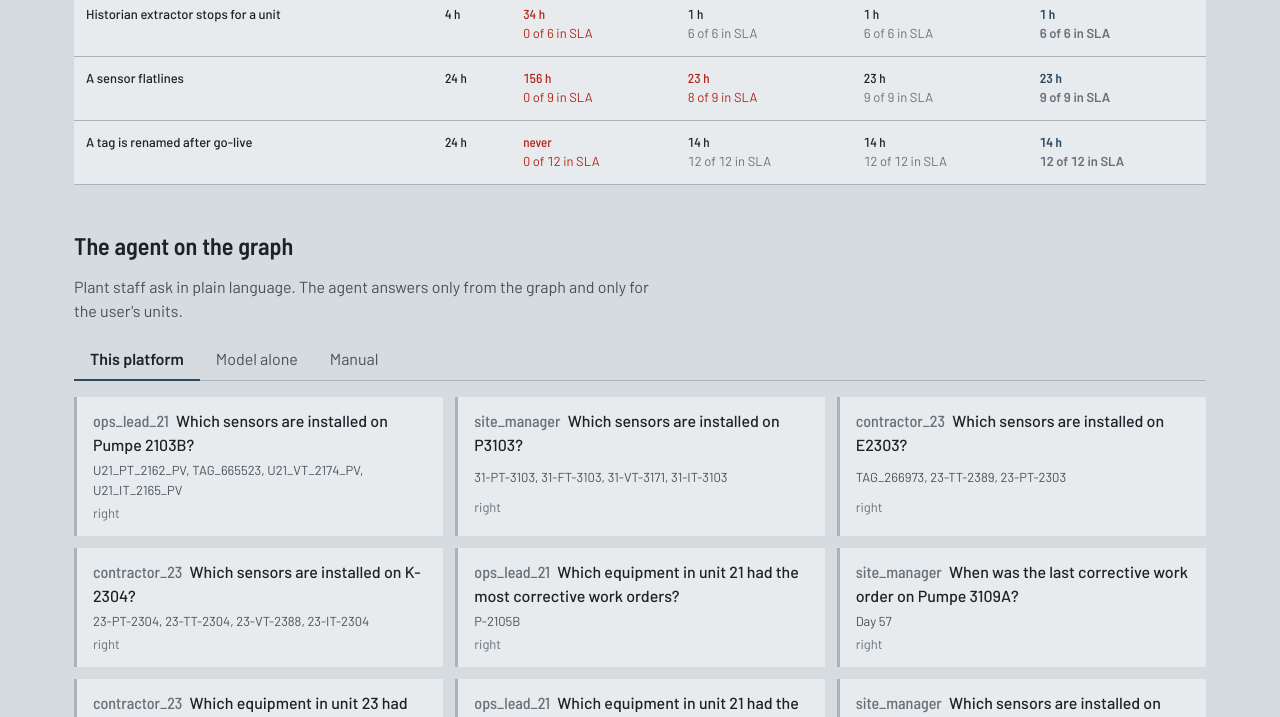
Test: App › switches the agent transcripts to the model acting alone
(page scrolled)
Click the tab "Model alone" at (257, 360), box [200,339,314,381]
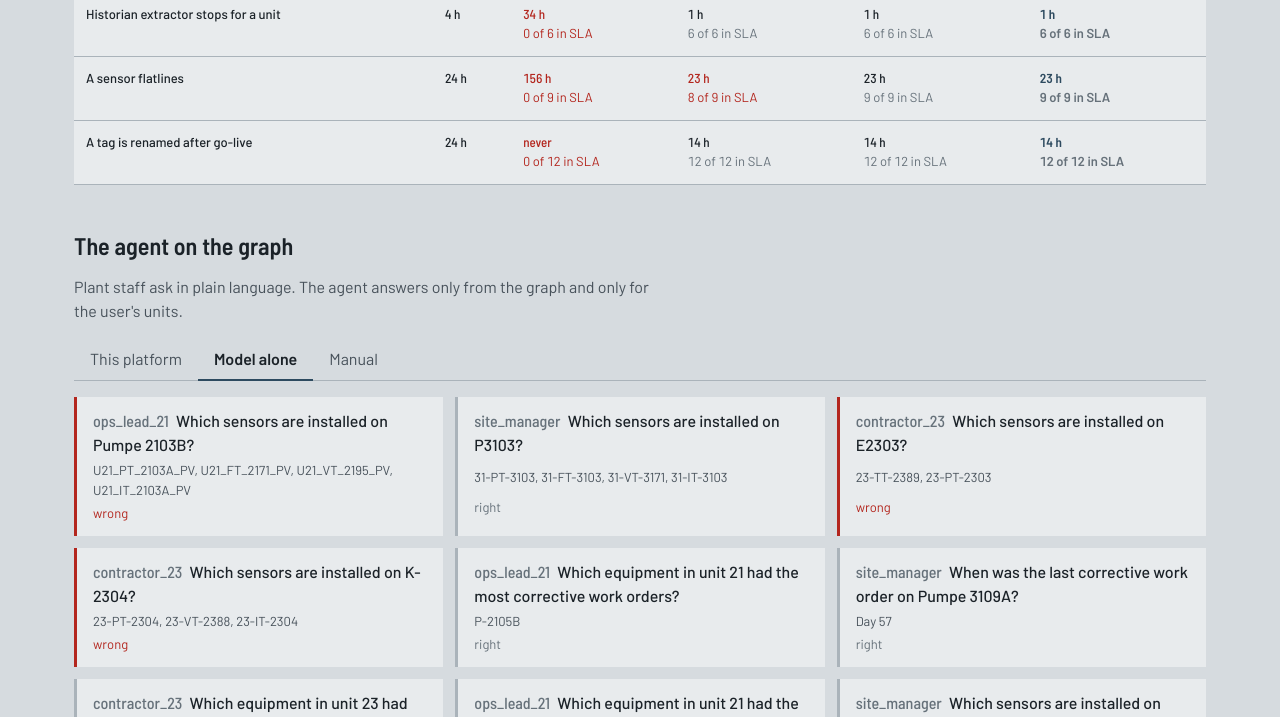
Check: the tab "Model alone" is selected, box [198,339,313,381]
